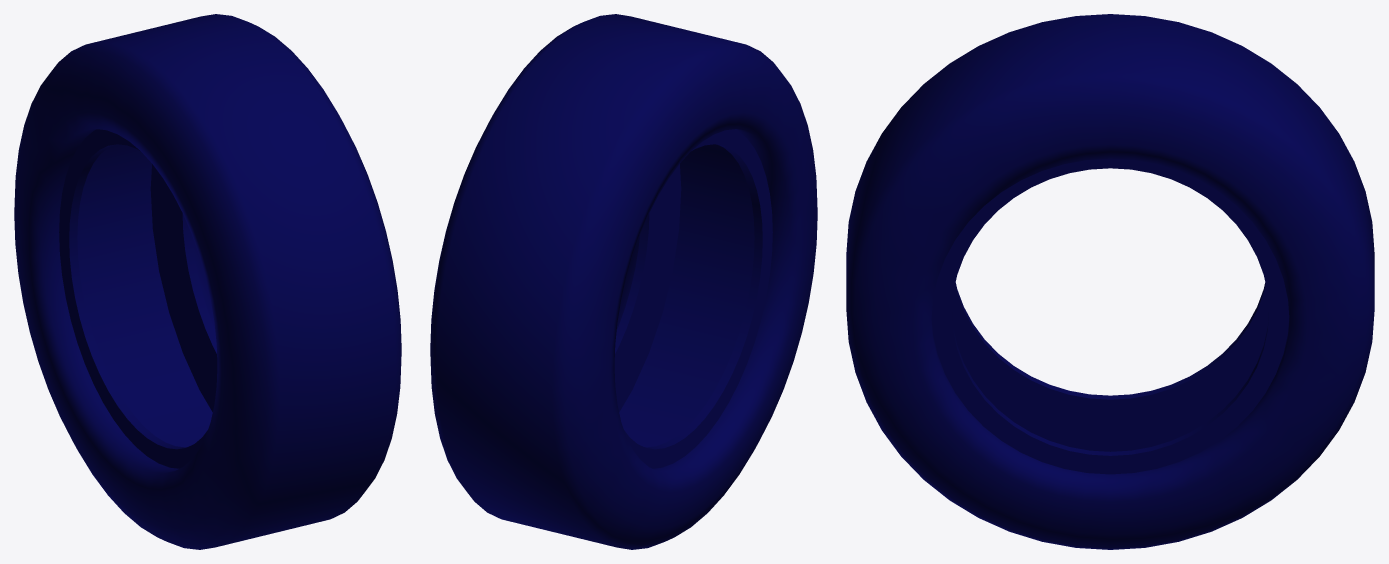
File: SM_Tire.fbx
3 renders of one model, left to right at view 1: azimuth 30°, elevation 25°; view 2: azimuth 150°, elevation 25°; view 3: azimuth 270°, elevation 25°, orthographic.
Parts seen in each view (by area): view 1: Tire; view 2: Tire; view 3: Tire.
Boxes of the visible parts, x1,y1,x2,y2 form: Tire: (14, 14, 401, 549); Tire: (430, 14, 817, 549); Tire: (846, 14, 1374, 549).
Size of the model in its own units: 26.15 by 70.56 by 70.56.
